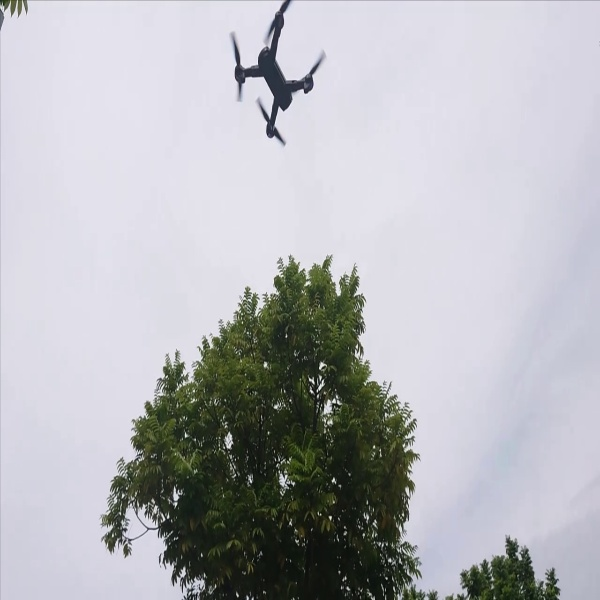drone: (221, 4, 337, 147)
